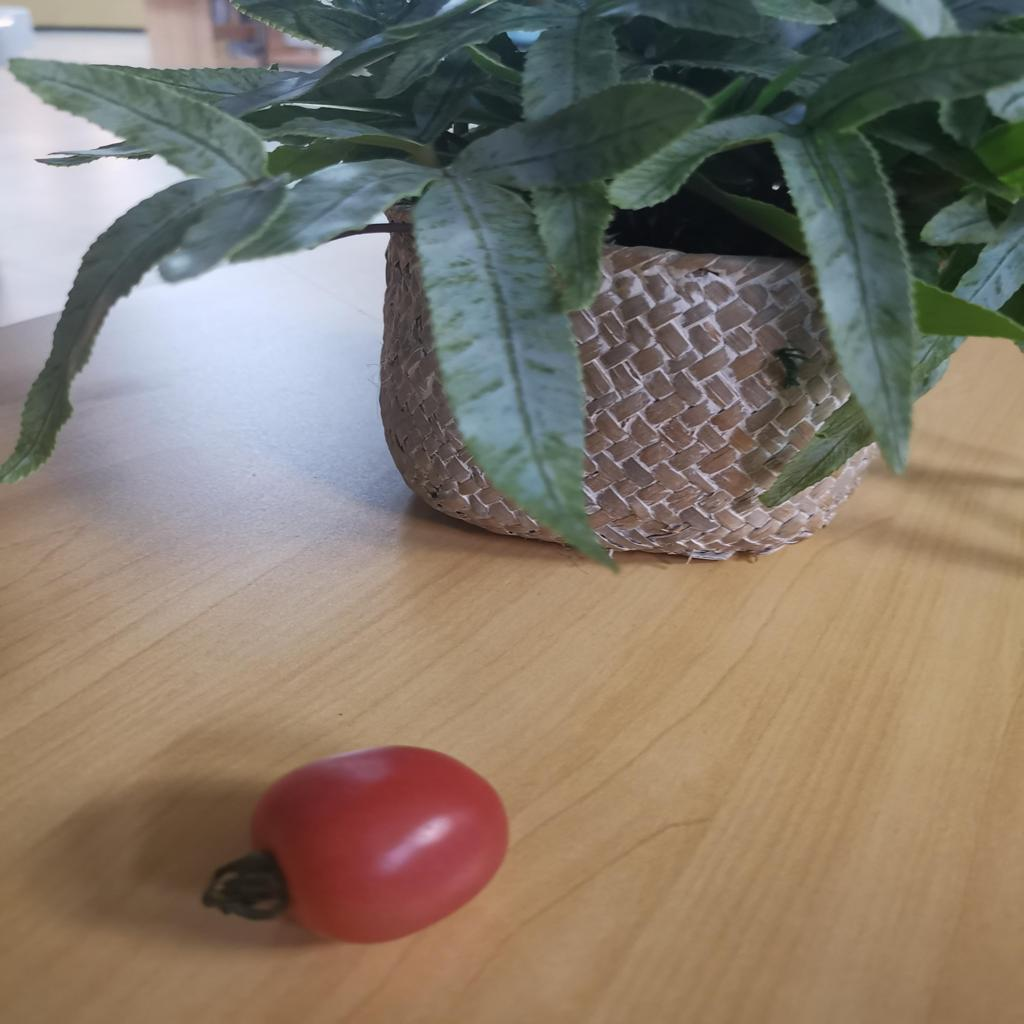tomato: (210, 743, 510, 950)
